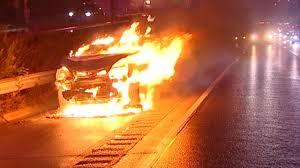fire: (55, 33, 191, 120)
smoke: (195, 2, 268, 41)
